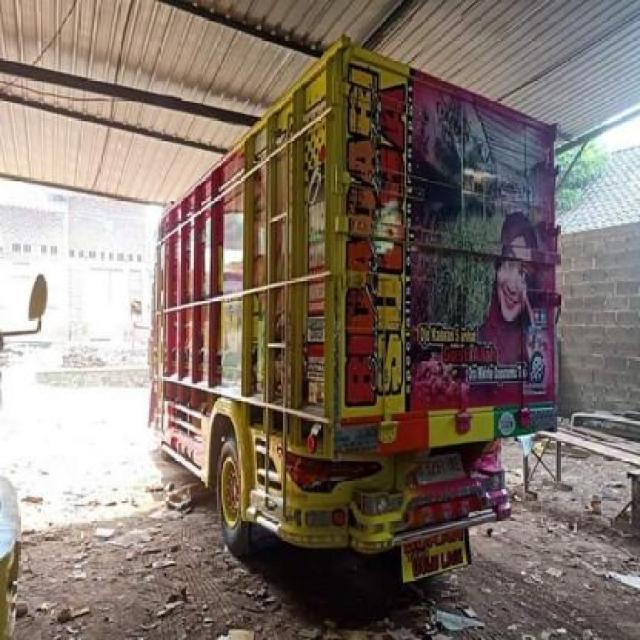truck: (131, 30, 560, 587)
